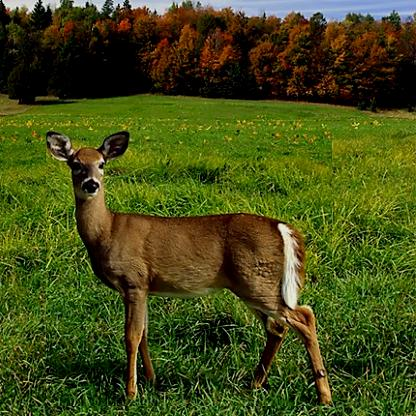Deer: (46, 130, 332, 406)
